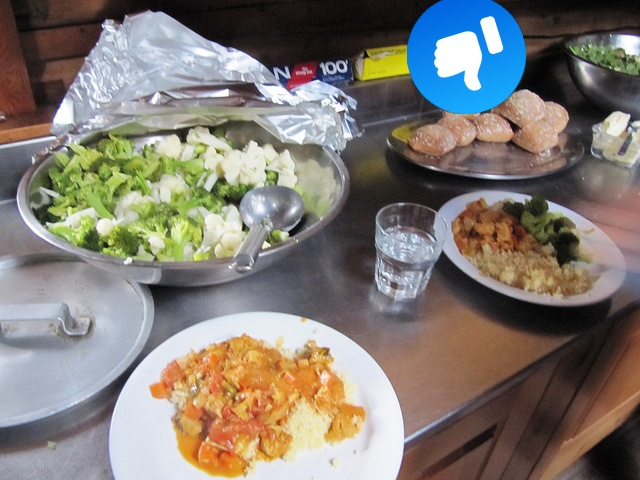like: (407, 0, 526, 114)
